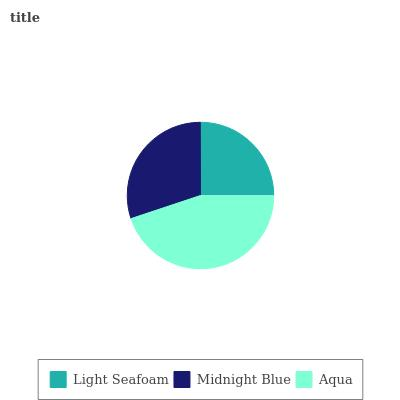legend: (37, 358, 364, 400)
sector: (128, 195, 274, 270), (125, 121, 202, 218), (201, 121, 273, 196)
